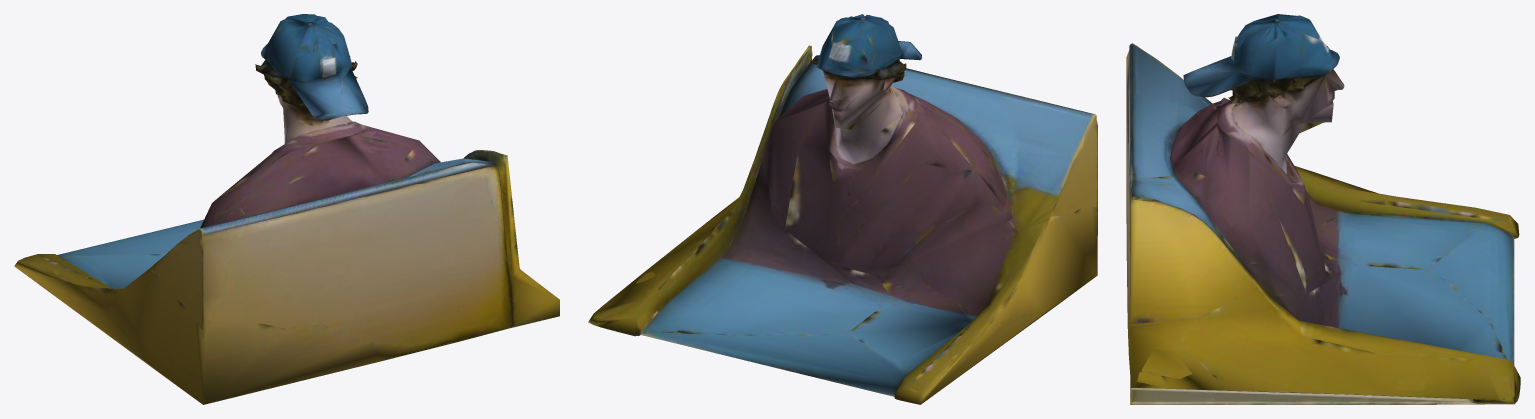
3 views of the same model, side by side, from view 1: azimuth 30°, elevation 25°; view 2: azimuth 150°, elevation 25°; view 3: azimuth 270°, elevation 25° (orthographic). The views are drawn at different scales.
Parts seen in each view (by area): view 1: node_0; view 2: node_0; view 3: node_0.
Part boxes in pixels (bbox=[...]): node_0: bbox=[14, 14, 559, 404]; node_0: bbox=[588, 14, 1097, 404]; node_0: bbox=[1126, 14, 1520, 404].
Bounding box in the file's own units: 0.77 × 0.5848 × 0.7085.
1 material, 1 textured.
